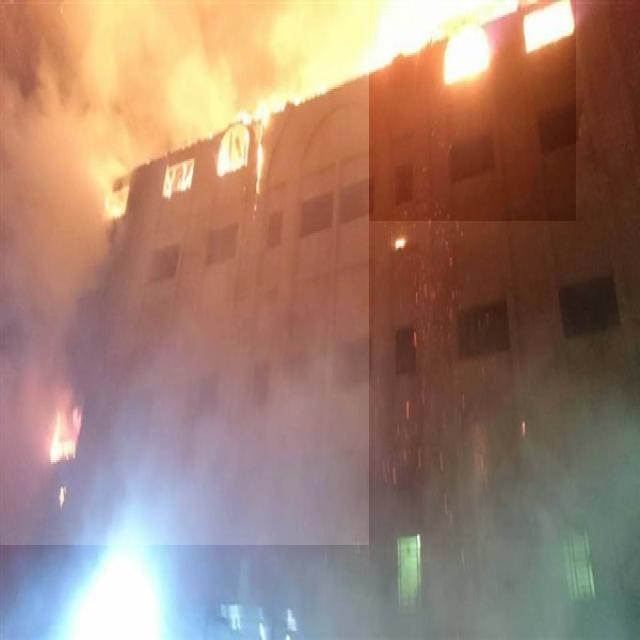Fire: (93, 0, 576, 221), (45, 407, 85, 460)
Smoke: (0, 0, 369, 545)
